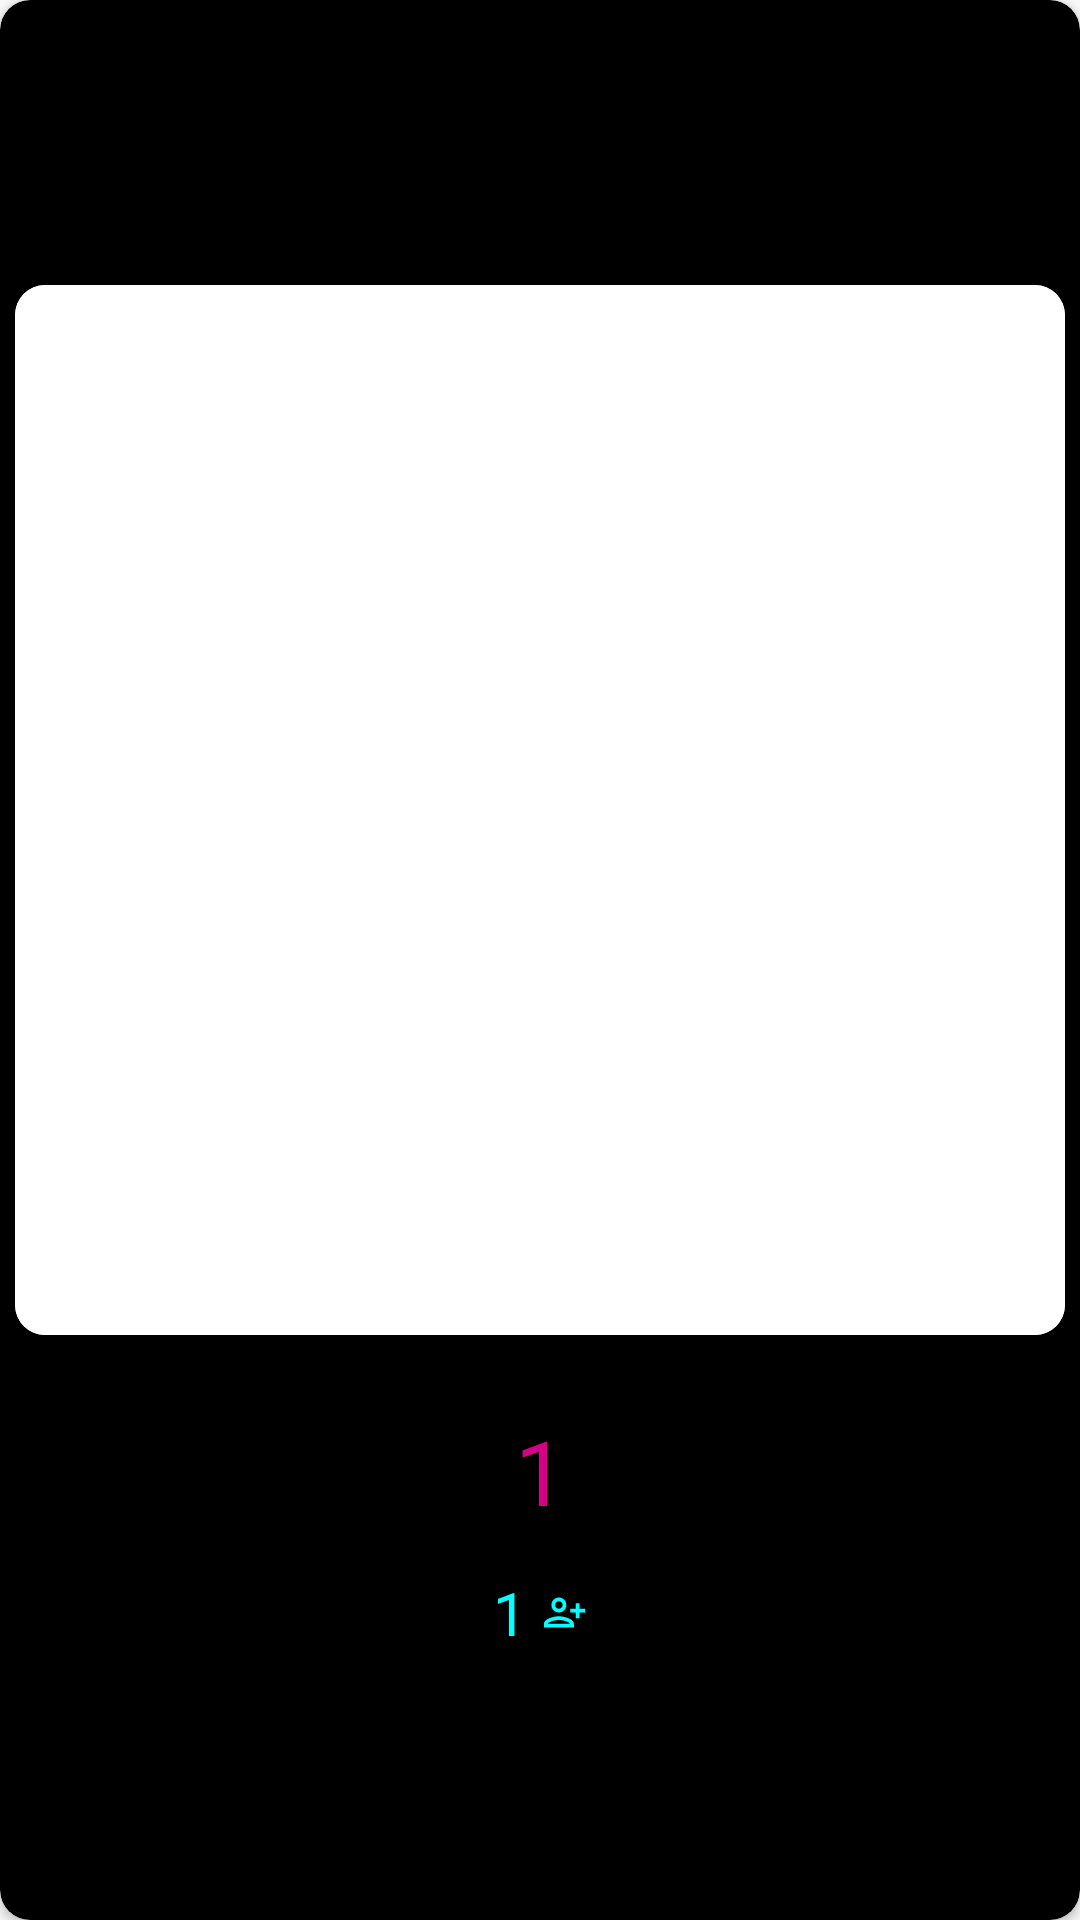

Icons on this 1080px×1920px Android screen, each with the point to tap as [x,y]:
person add: [565,1612]
